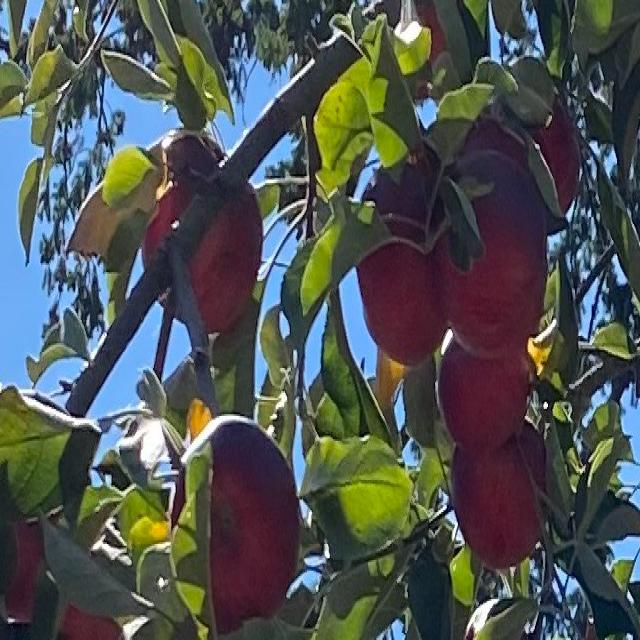Apples: (170, 416, 302, 631), (142, 139, 263, 334), (444, 154, 547, 353), (358, 162, 448, 362), (452, 416, 549, 567), (495, 80, 582, 210), (436, 332, 530, 444), (0, 492, 58, 620), (409, 0, 452, 96), (54, 603, 131, 638)
